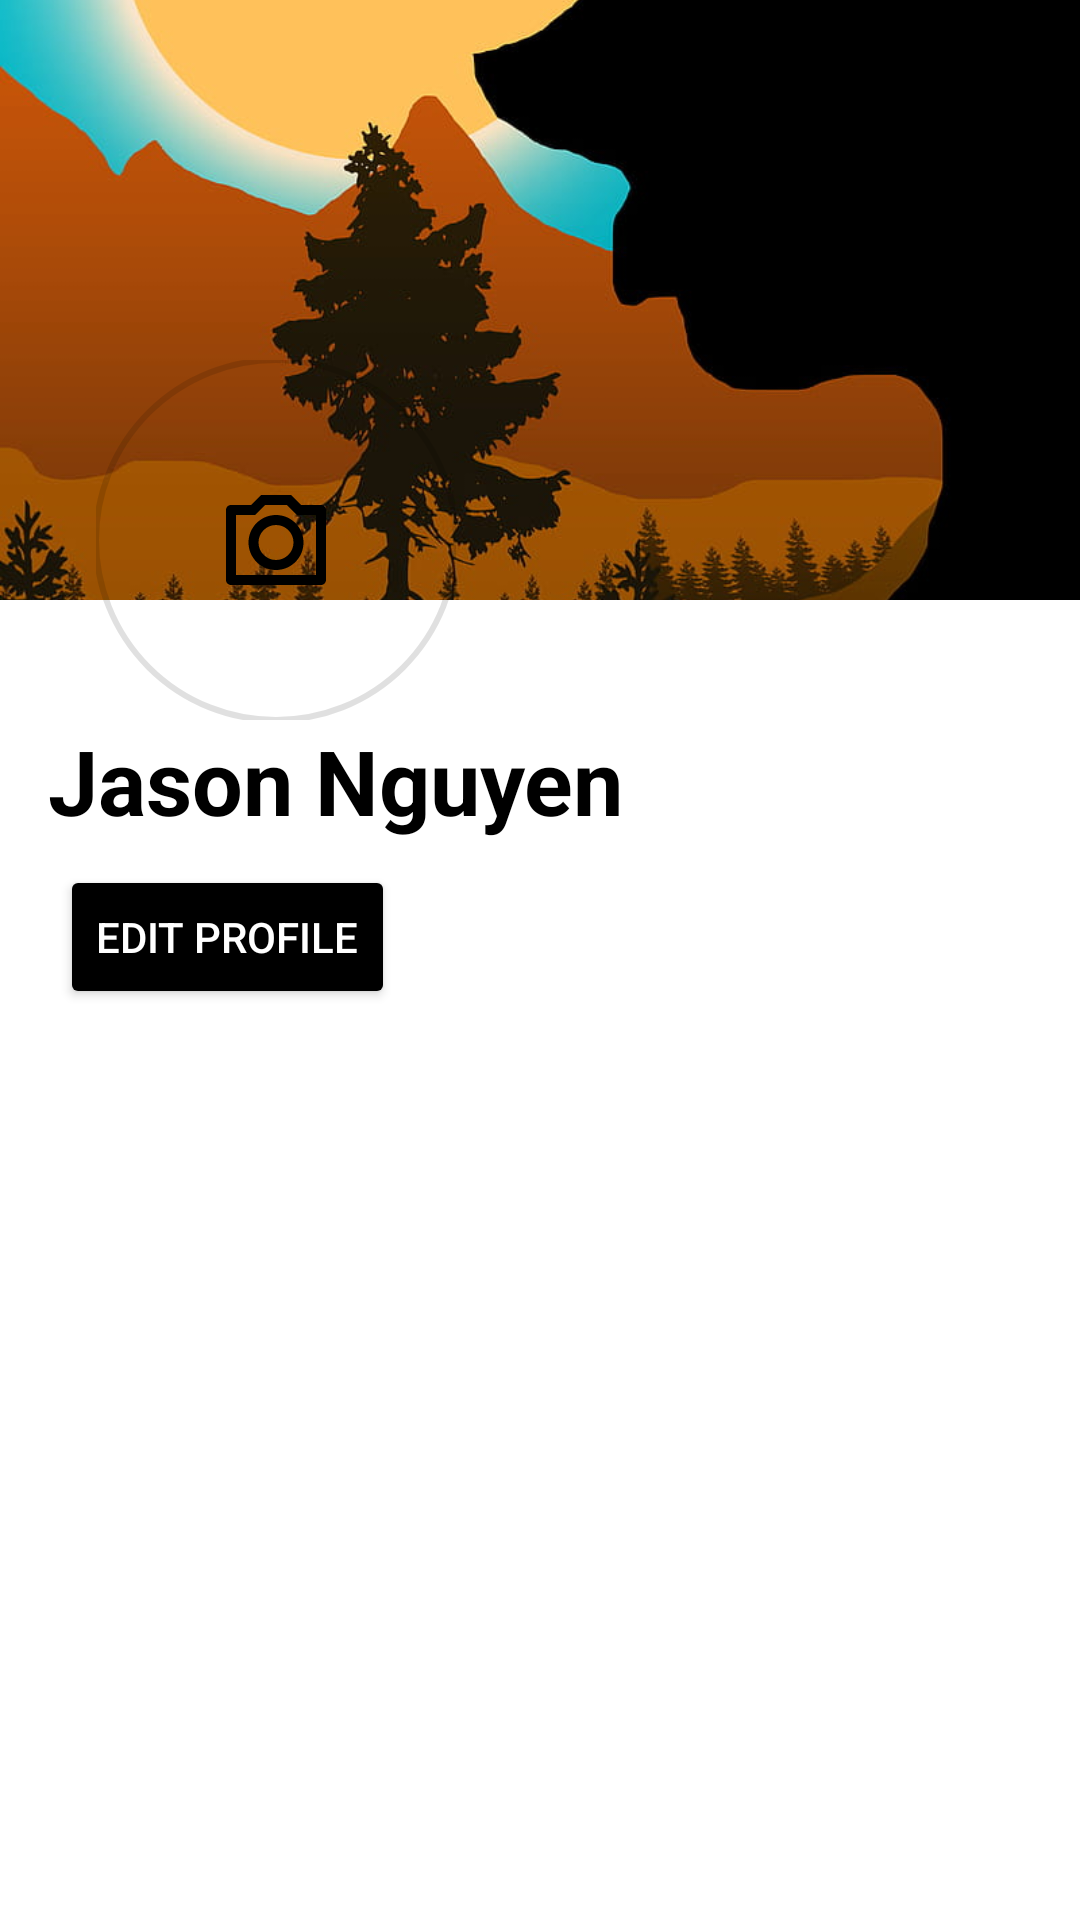

Screen size 1080w x 1920h. Icon name, then its center in pixels as point (x, y):
camera: point (276, 540)
